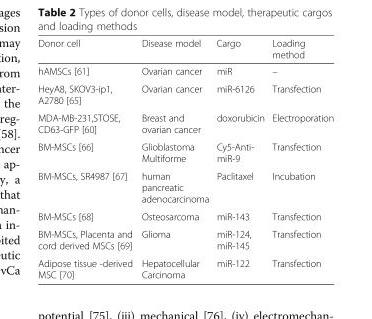table: (37, 37, 333, 279)
table column: (37, 37, 136, 279), (136, 37, 212, 279), (267, 37, 333, 279), (212, 37, 267, 279)
table column header: (37, 37, 333, 62)
table row: (37, 166, 333, 207), (37, 79, 333, 108), (37, 108, 333, 137), (37, 137, 333, 166), (37, 224, 333, 253), (37, 253, 333, 279), (37, 37, 333, 62), (37, 62, 333, 79), (37, 207, 333, 224)
